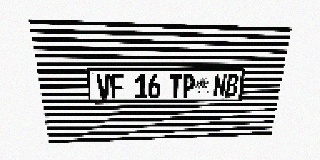1: (134, 74, 147, 98)
6: (148, 74, 161, 98)
B: (225, 74, 239, 97)
F: (110, 74, 124, 99)
N: (213, 74, 227, 97)
P: (182, 74, 195, 98)
T: (169, 74, 182, 98)
V: (96, 74, 111, 99)
